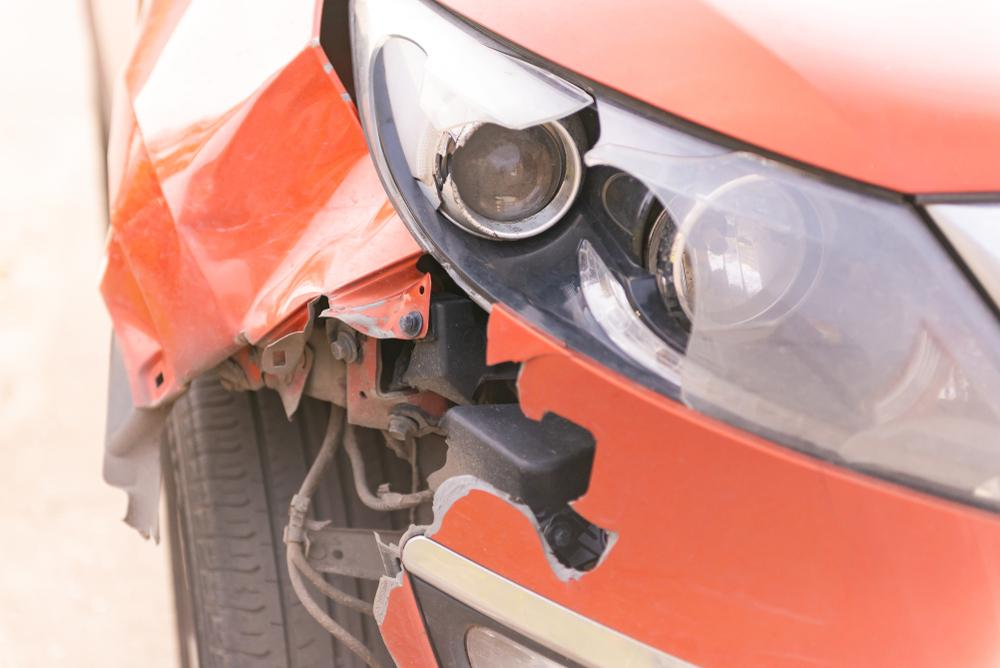lamp broken: (318, 0, 1000, 512)
